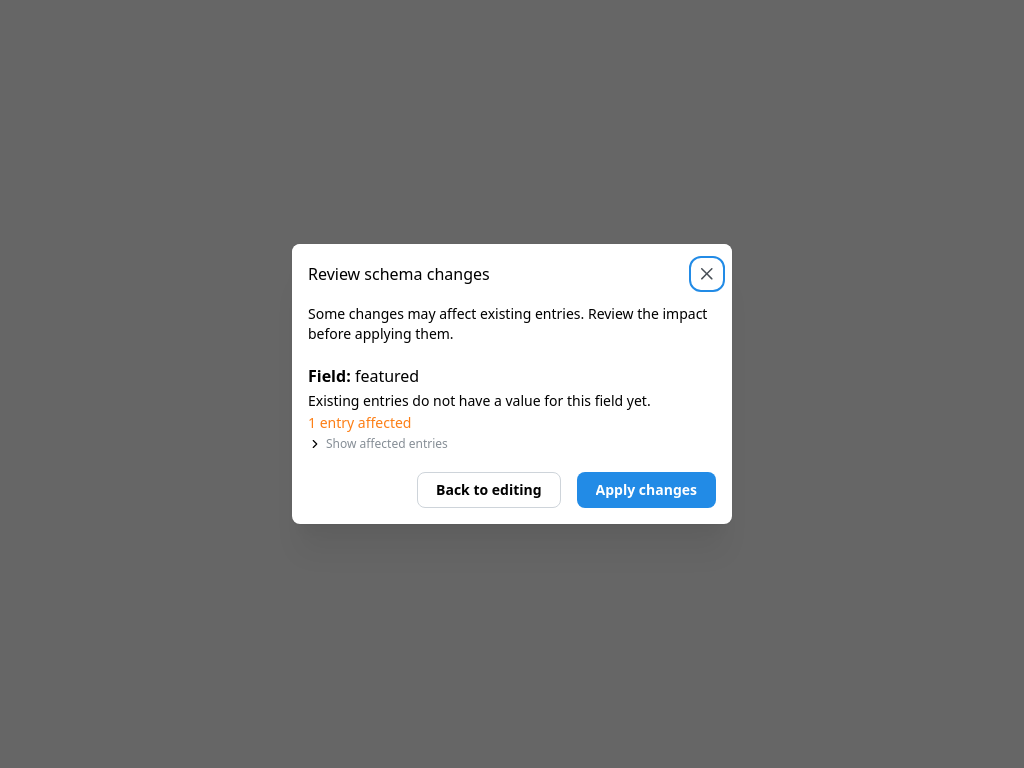
it: SchemaChangePreviewModal › renders an added_required change, which has no fieldId, without crashing
Expected: the text "featured" is shown, [355,365,419,387]
Expected: the text "Existing entries do not have a value for this field yet." is shown, [308,391,651,410]
Click the button "Show affected entries".
click(341, 443)  # box [308,436,716,452]
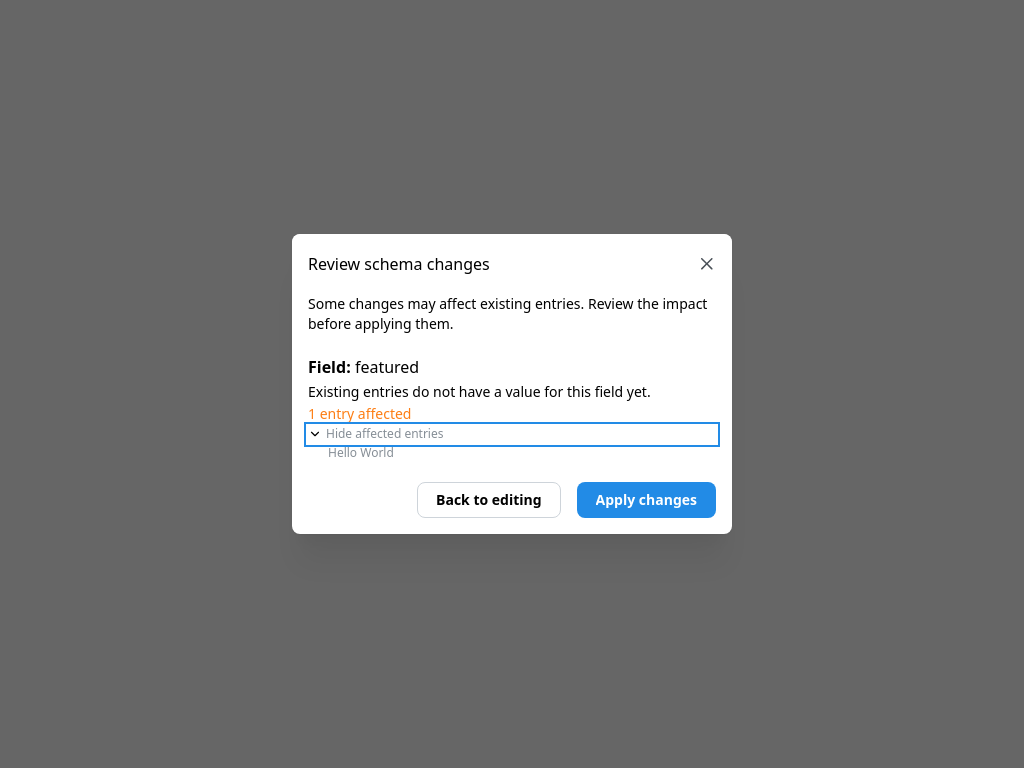
Expected: the text "Hello World" is shown, [328,445,394,461]
